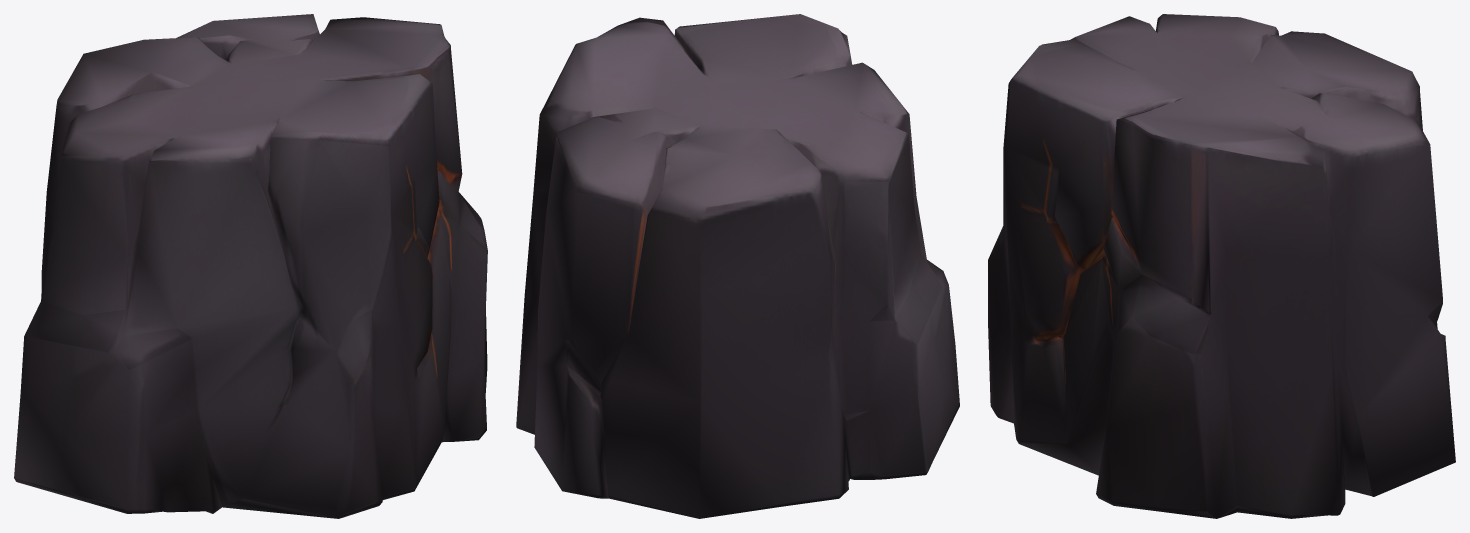
The picture shows the model from 3 angles, left to right: view 1: azimuth 30°, elevation 25°; view 2: azimuth 150°, elevation 25°; view 3: azimuth 270°, elevation 25°; orthographic projection. The views are drawn at different scales.
Parts seen in each view (by area): view 1: volcano-rock-2; view 2: volcano-rock-2; view 3: volcano-rock-2.
Part boxes in pixels (x1,y1,x2,y2): volcano-rock-2: [14, 14, 487, 518]; volcano-rock-2: [516, 14, 959, 518]; volcano-rock-2: [988, 14, 1455, 518].
Size of the model in its own units: 0.2097 by 0.1722 by 0.1918.
1 material, 1 textured.
